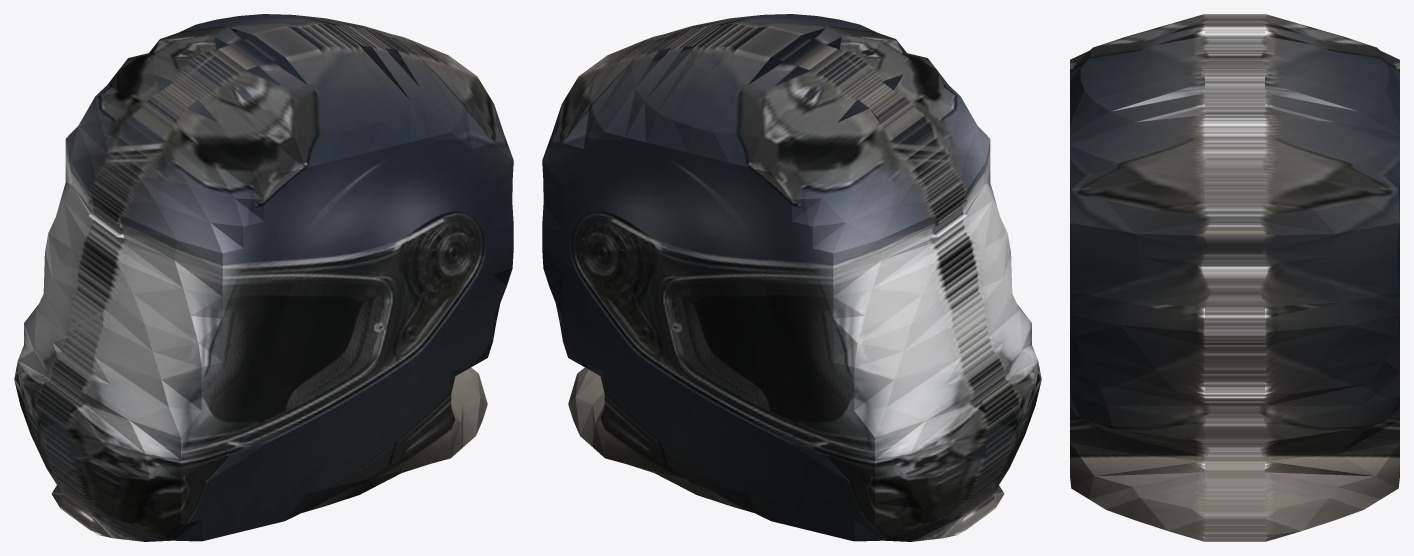
The model's file is rev-it-vantage-urban-helmet-076.glb.
3 views of the same model, side by side, from view 1: azimuth 30°, elevation 25°; view 2: azimuth 150°, elevation 25°; view 3: azimuth 270°, elevation 25° (orthographic). The views are drawn at different scales.
Parts seen in each view (by area): view 1: world; view 2: world; view 3: world.
Boxes of the visible parts, box(x1,y1,x2,y2) form: world: box(14, 14, 513, 541); world: box(542, 14, 1041, 541); world: box(1070, 14, 1399, 541).
Size of the model in its own units: 1 by 0.9902 by 0.64.
1 material, 1 textured.
